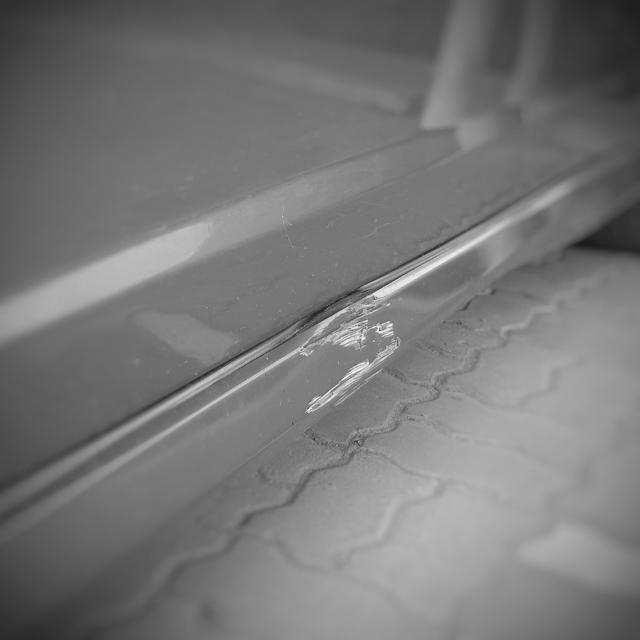Door: (250, 236, 432, 446)
